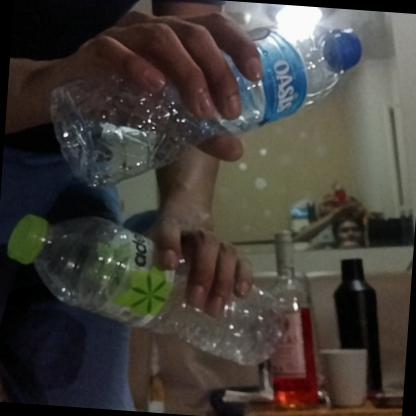plastic_bottles: (42, 5, 364, 212), (2, 211, 297, 371)
